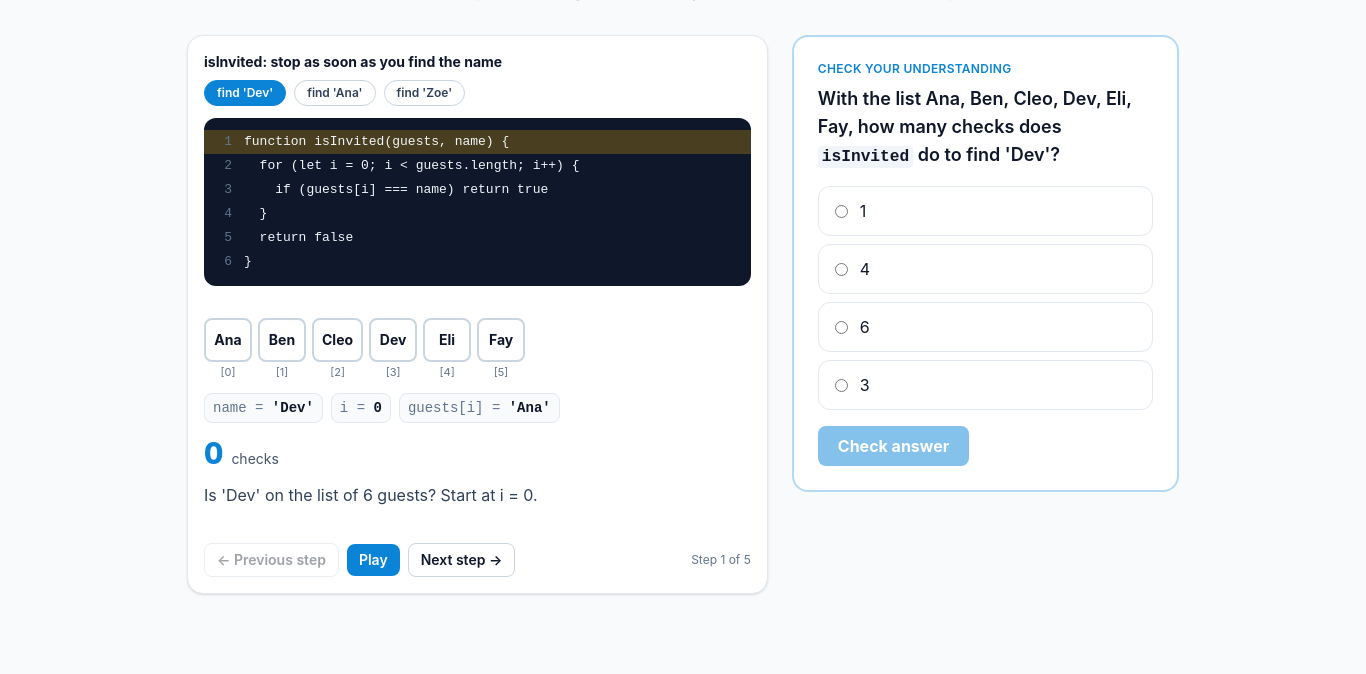
Test: trying the course on the landing page › lets visitors answer a real lesson question and earn XP
(page scrolled)
Expected: the text "isInvited" is shown, [204,53,502,70]
Click the radio button labelled "6".
click(841, 327)  # box [835,321,848,334]
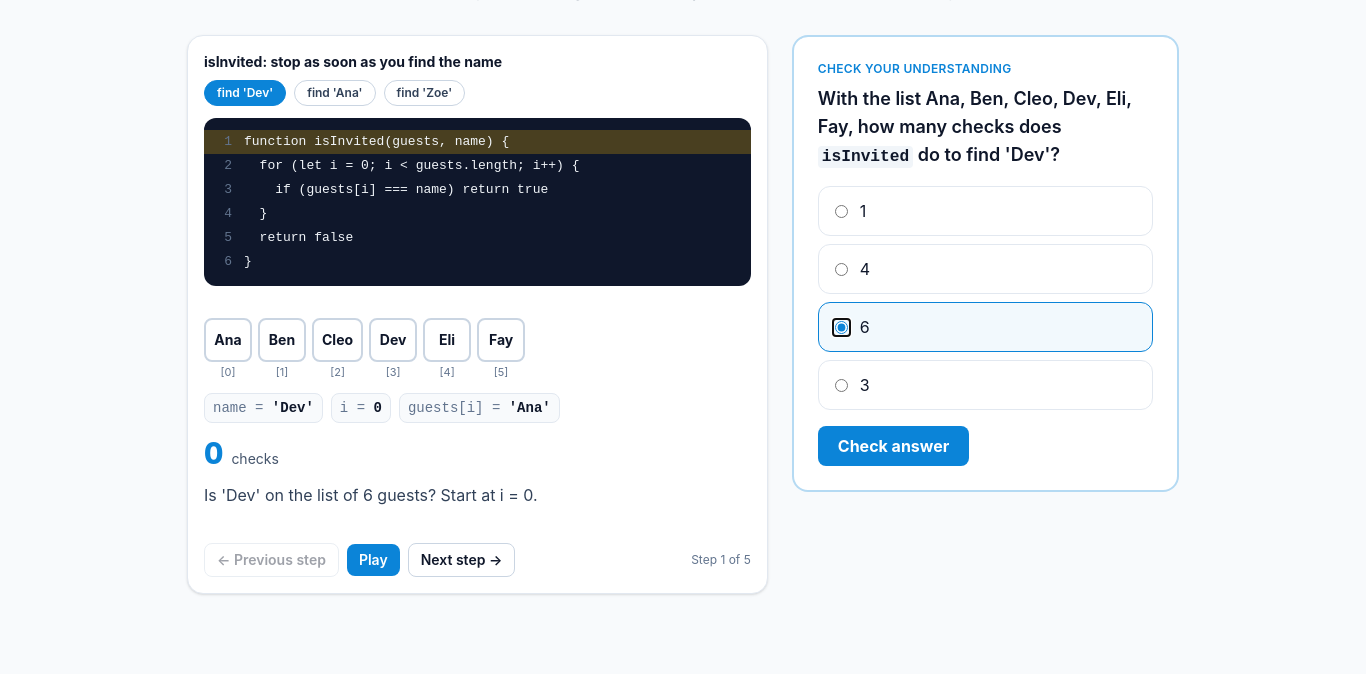
Click the button "Check answer".
click(894, 446)  # box [818,426,969,466]
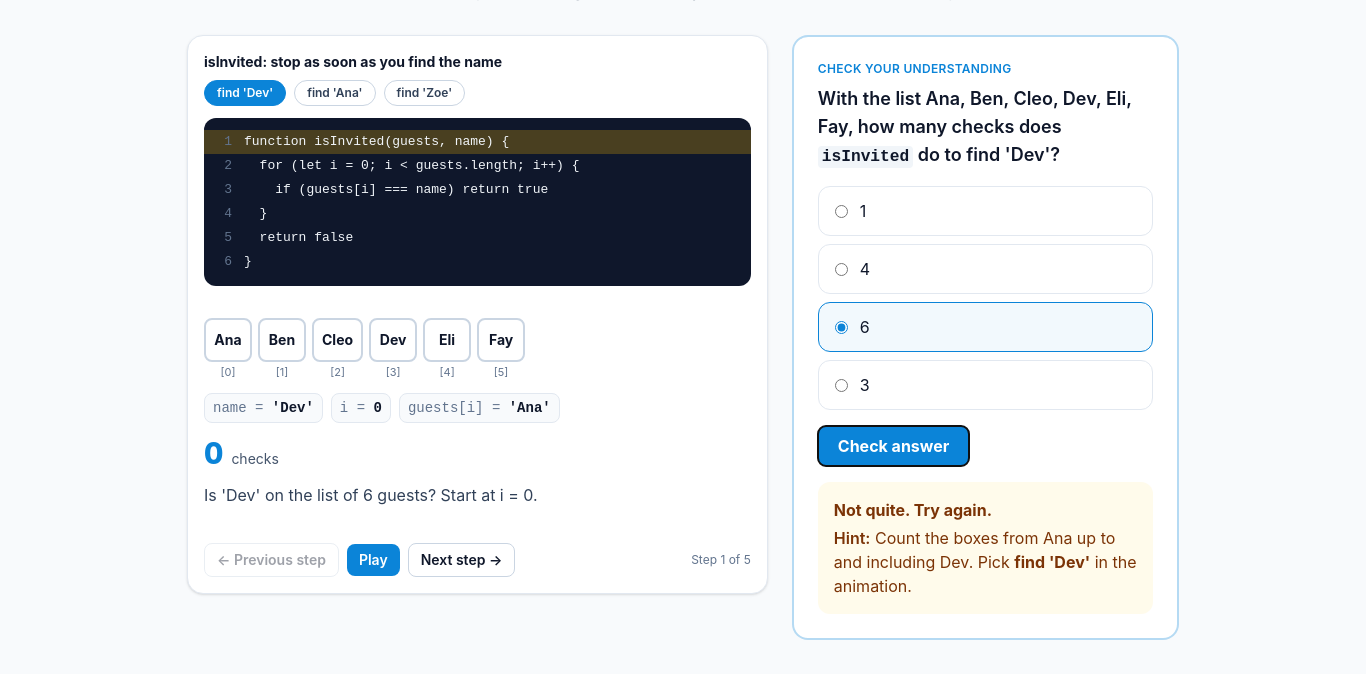
Expected: the text "Not quite. Try again." is shown, [834,500,992,520]
Click the radio button labelled "4".
click(841, 269)  # box [835,263,848,276]
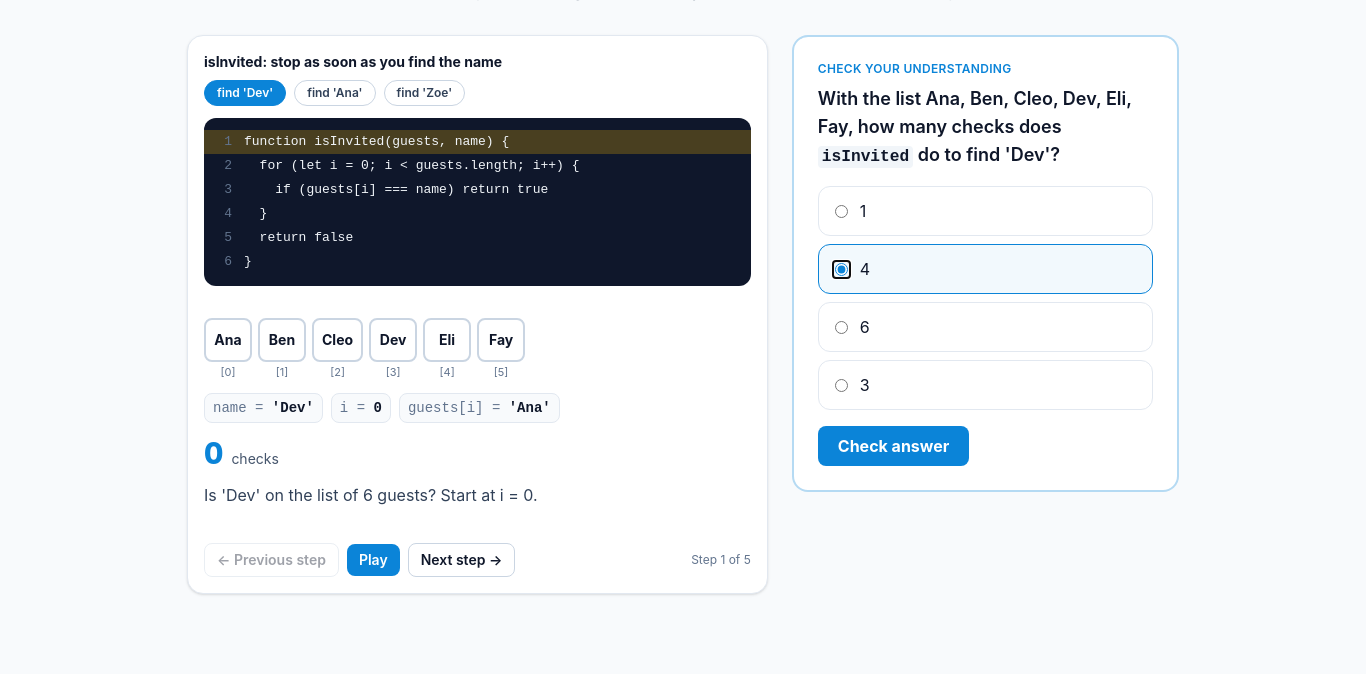
Click the button "Check answer".
click(894, 446)  # box [818,426,969,466]
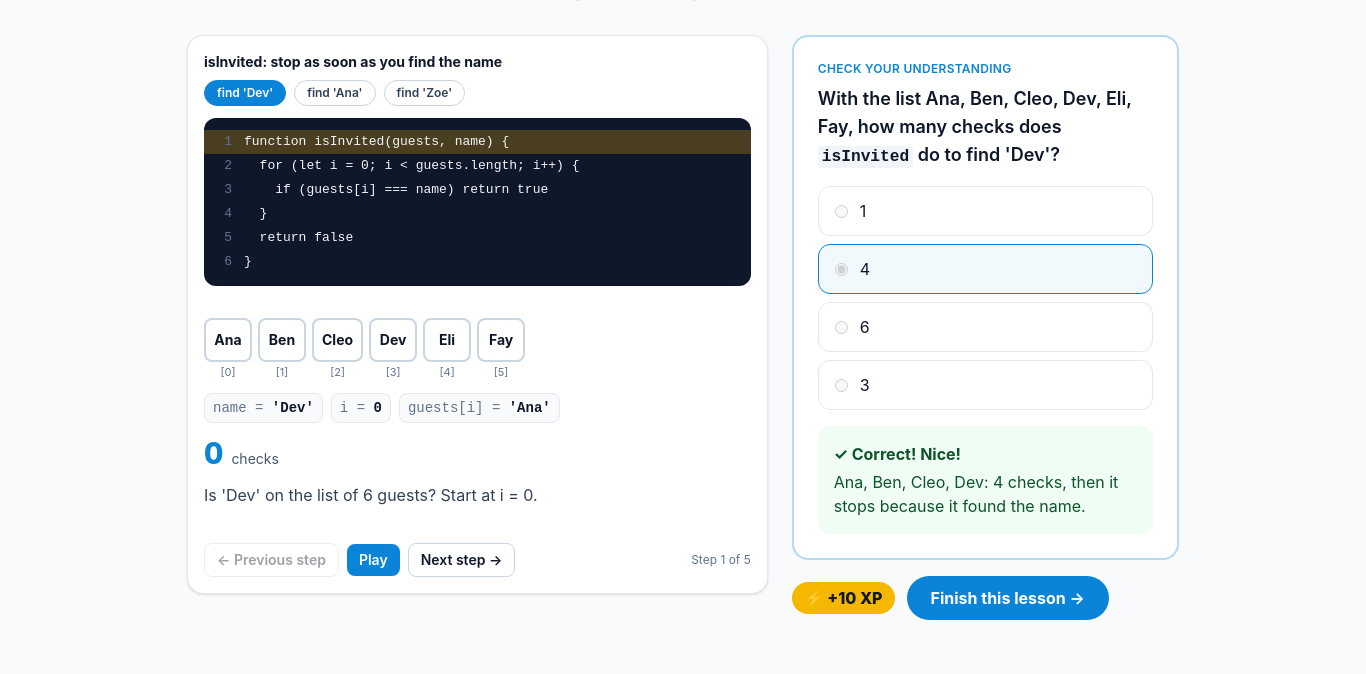
Expected: the text "✓ Correct! Nice!" is shown, [834,444,961,464]
